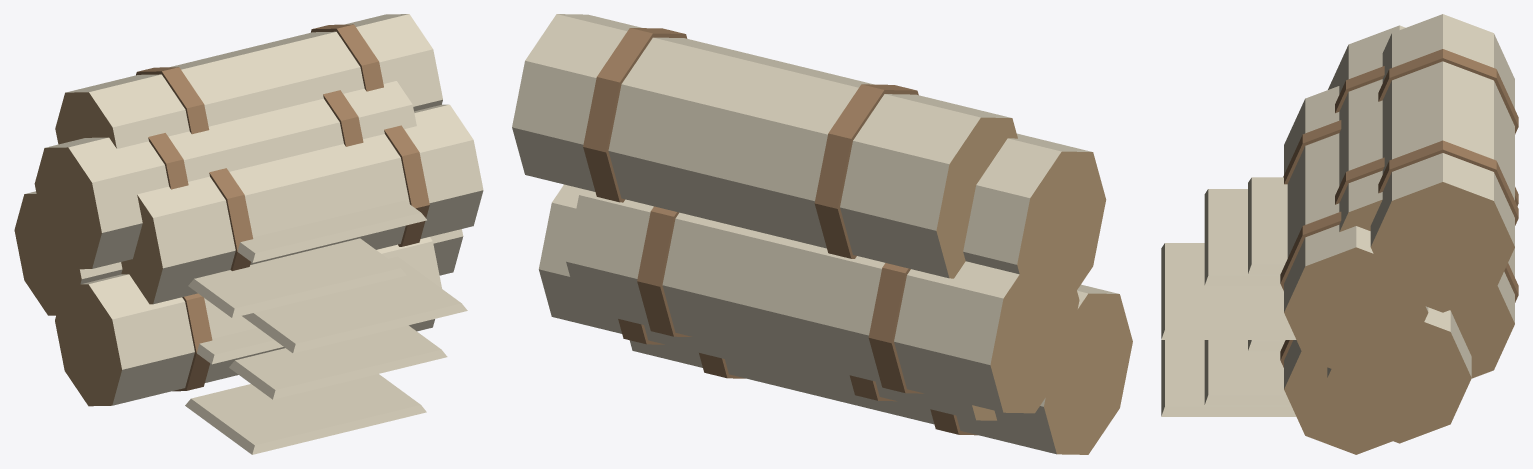
The model's file is item_091_wool_cloth_l.glb.
The picture shows the model from 3 angles, left to right: view 1: azimuth 30°, elevation 25°; view 2: azimuth 150°, elevation 25°; view 3: azimuth 270°, elevation 25°; orthographic projection. The views are drawn at different scales.
Parts seen in each view (by area): view 1: item_091_wool_cloth_l; view 2: item_091_wool_cloth_l; view 3: item_091_wool_cloth_l.
Boxes of the visible parts, x1,y1,x2,y2 form: item_091_wool_cloth_l: [14, 14, 483, 454]; item_091_wool_cloth_l: [512, 14, 1132, 454]; item_091_wool_cloth_l: [1161, 14, 1518, 454].
Size of the model in its own units: 0.62 by 0.46 by 0.495.
